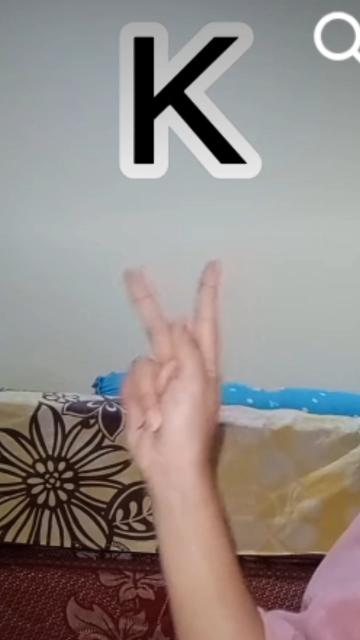K: (115, 257, 226, 487)
